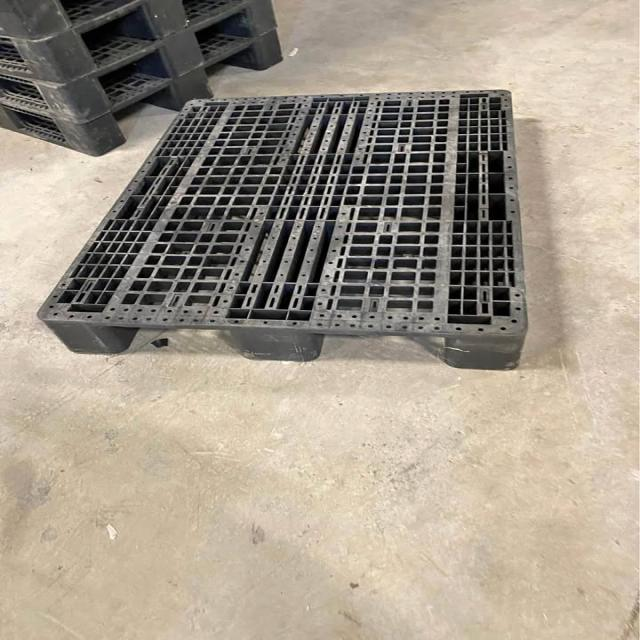non-igps: (29, 83, 533, 376), (0, 18, 292, 161), (0, 0, 285, 128), (0, 0, 259, 96), (0, 0, 149, 50)
